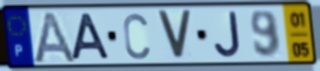9: (249, 8, 283, 60)
A: (31, 10, 79, 65), (70, 12, 113, 62)
C: (121, 11, 152, 61)
J: (212, 10, 243, 60)
V: (155, 9, 194, 62)
